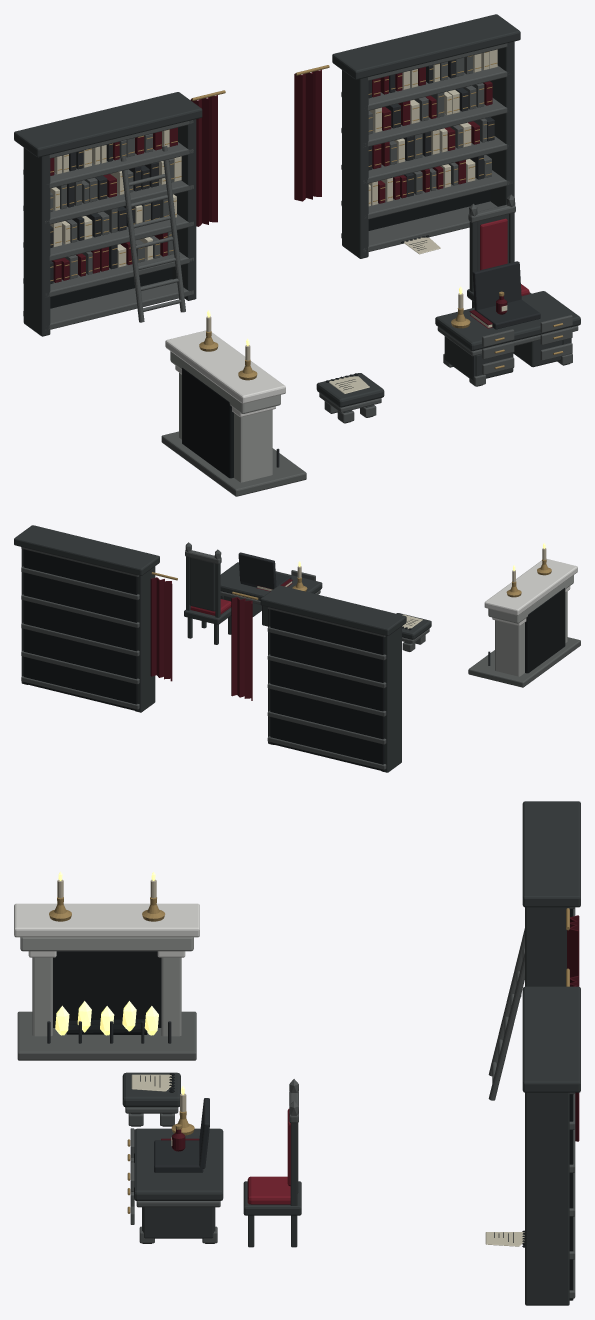
File: ROOM_library.glb
3 views of the same model, one above another, from view 1: azimuth 30°, elevation 25°; view 2: azimuth 150°, elevation 25°; view 3: azimuth 270°, elevation 25° (orthographic). The views are drawn at different scales.
Parts seen in each view (by area): view 1: ROOM_library__wood, ROOM_library__woodedge, ROOM_library__redshadow, ROOM_library__black, ROOM_library__coal, ROOM_library__edge, ROOM_library__wall, ROOM_library__stone, ROOM_library__brass, ROOM_library__darkstone, ROOM_library__red; view 2: ROOM_library__coal, ROOM_library__wood, ROOM_library__woodedge, ROOM_library__redshadow, ROOM_library__wall, ROOM_library__stone, ROOM_library__darkstone, ROOM_library__black, ROOM_library__brass; view 3: ROOM_library__wood, ROOM_library__coal, ROOM_library__wall, ROOM_library__stone, ROOM_library__darkstone, ROOM_library__woodedge, ROOM_library__black, ROOM_library__fire, ROOM_library__red, ROOM_library__redshadow, ROOM_library__brass, ROOM_library__edge.
Boxes of the visible parts, left/top/right/bottom form: ROOM_library__wood: left=14, top=14, right=580, bottom=423; ROOM_library__woodedge: left=23, top=43, right=578, bottom=423; ROOM_library__redshadow: left=50, top=67, right=507, bottom=328; ROOM_library__black: left=50, top=59, right=540, bottom=467; ROOM_library__coal: left=50, top=154, right=490, bottom=478; ROOM_library__edge: left=50, top=49, right=497, bottom=393; ROOM_library__wall: left=165, top=330, right=285, bottom=417; ROOM_library__stone: left=170, top=351, right=280, bottom=482; ROOM_library__brass: left=50, top=51, right=563, bottom=380; ROOM_library__darkstone: left=161, top=431, right=306, bottom=496; ROOM_library__red: left=480, top=218, right=529, bottom=295; ROOM_library__coal: left=23, top=549, right=565, bottom=771; ROOM_library__wood: left=14, top=525, right=431, bottom=772; ROOM_library__woodedge: left=21, top=542, right=429, bottom=769; ROOM_library__redshadow: left=150, top=577, right=292, bottom=700; ROOM_library__wall: left=484, top=558, right=577, bottom=625; ROOM_library__stone: left=488, top=575, right=573, bottom=676; ROOM_library__darkstone: left=468, top=637, right=580, bottom=687; ROOM_library__black: left=238, top=552, right=490, bottom=665; ROOM_library__brass: left=151, top=559, right=551, bottom=599; ROOM_library__wood: left=122, top=801, right=580, bottom=1305; ROOM_library__coal: left=53, top=909, right=573, bottom=1300; ROOM_library__wall: left=14, top=903, right=199, bottom=957; ROOM_library__stone: left=20, top=937, right=193, bottom=1036; ROOM_library__darkstone: left=17, top=1011, right=196, bottom=1060; ROOM_library__woodedge: left=125, top=907, right=575, bottom=1298; ROOM_library__black: left=47, top=1021, right=209, bottom=1172; ROOM_library__fire: left=55, top=871, right=184, bottom=1094; ROOM_library__red: left=247, top=1109, right=290, bottom=1204; ROOM_library__redshadow: left=161, top=915, right=579, bottom=1151; ROOM_library__brass: left=49, top=897, right=569, bottom=1213; ROOM_library__edge: left=131, top=1074, right=524, bottom=1246.
Size of the model in its own units: 7.65 by 2.8 by 6.34.
